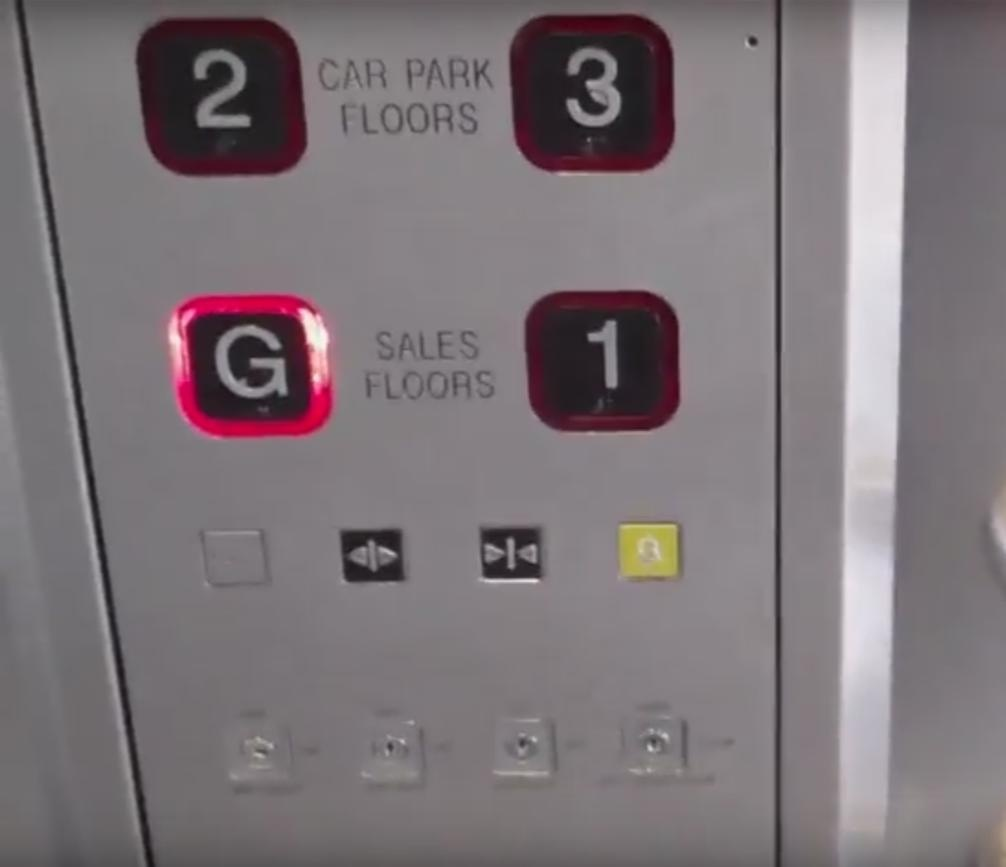1: (521, 286, 683, 437)
2: (136, 13, 310, 175)
3: (507, 11, 679, 173)
G: (166, 291, 333, 441)
alarm: (615, 523, 682, 582)
close: (479, 521, 544, 587)
empty: (199, 527, 273, 590)
keyhole: (223, 719, 295, 792), (619, 711, 692, 781), (361, 716, 427, 790), (492, 713, 557, 782)
open: (340, 527, 406, 588)
